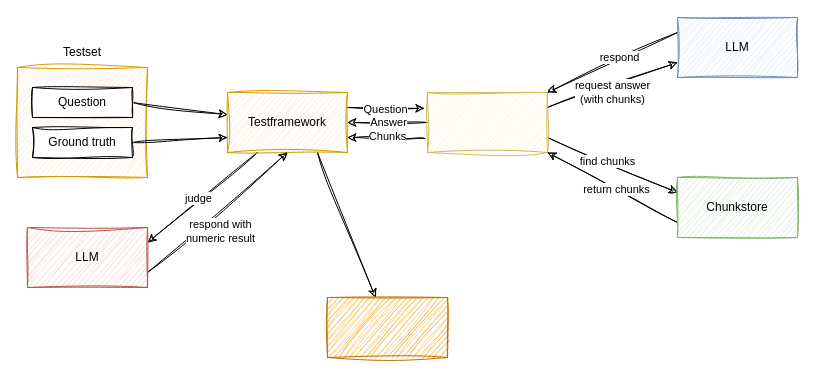
The diagram is 815 pixels wide and 375 high, and some of its shapes have lost their labels. The shapes that lost their labels are listed below. From the top down, each one's centre as x and y in pixels, then its label:
At point (487, 122): "App".
At point (387, 327): "Metrics".
